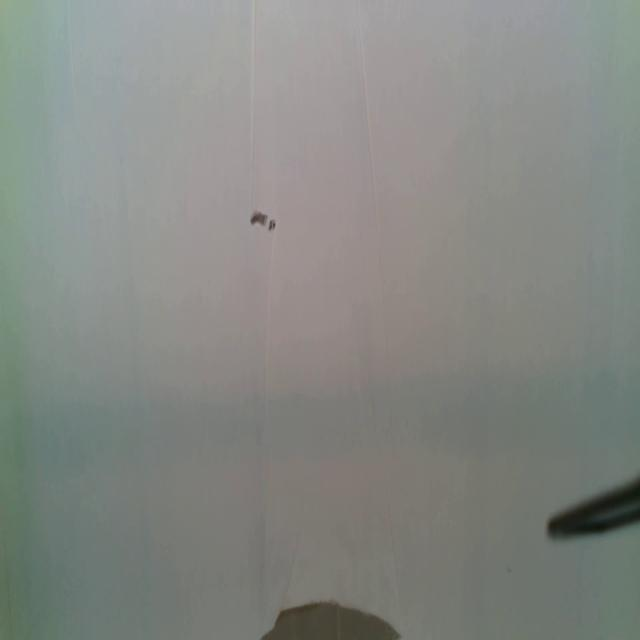color bleeding: (5, 366, 640, 475)
crease: (357, 8, 389, 342), (262, 239, 276, 412), (248, 5, 258, 196), (67, 0, 78, 100)
hole: (259, 593, 403, 640), (249, 208, 268, 226), (269, 218, 277, 232)
